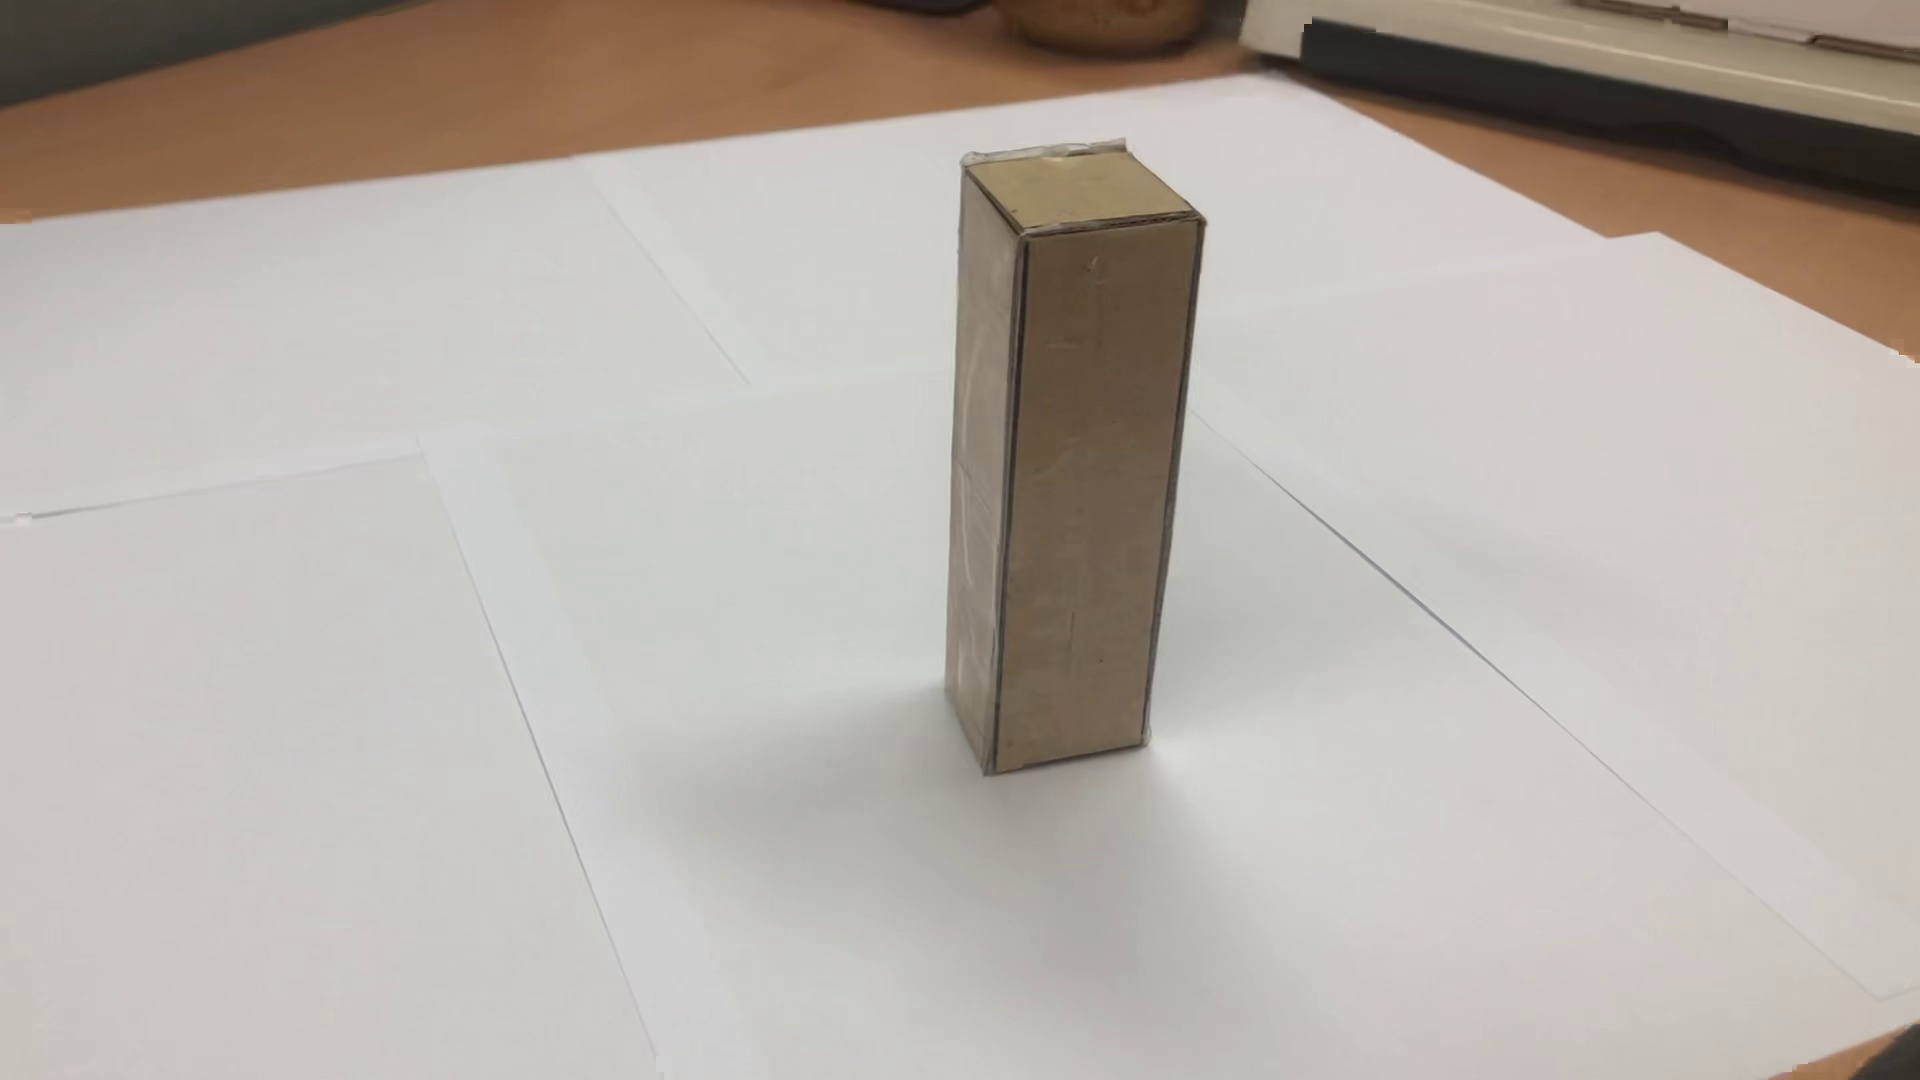box: (922, 109, 1213, 798)
